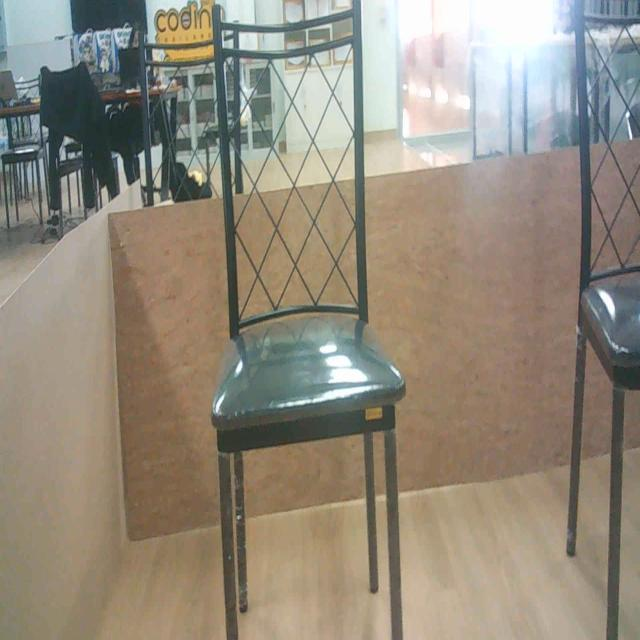emtpy: (205, 0, 416, 640)
